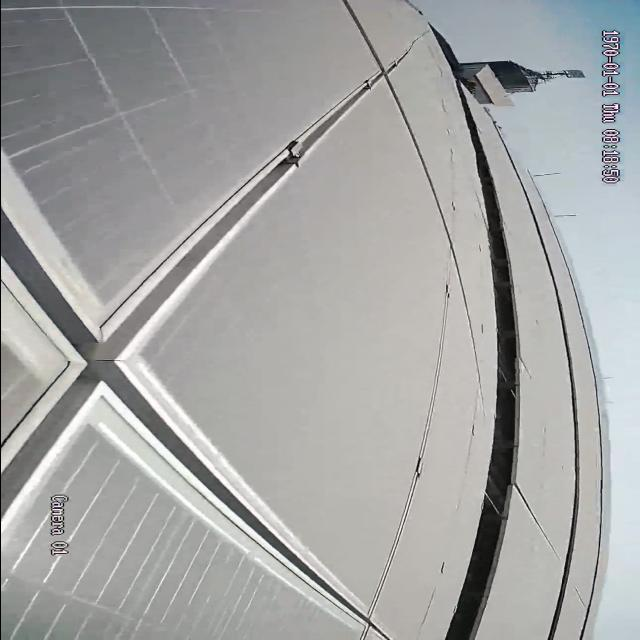interior panel: (0, 1, 468, 639)
outher panel: (443, 101, 523, 638)
